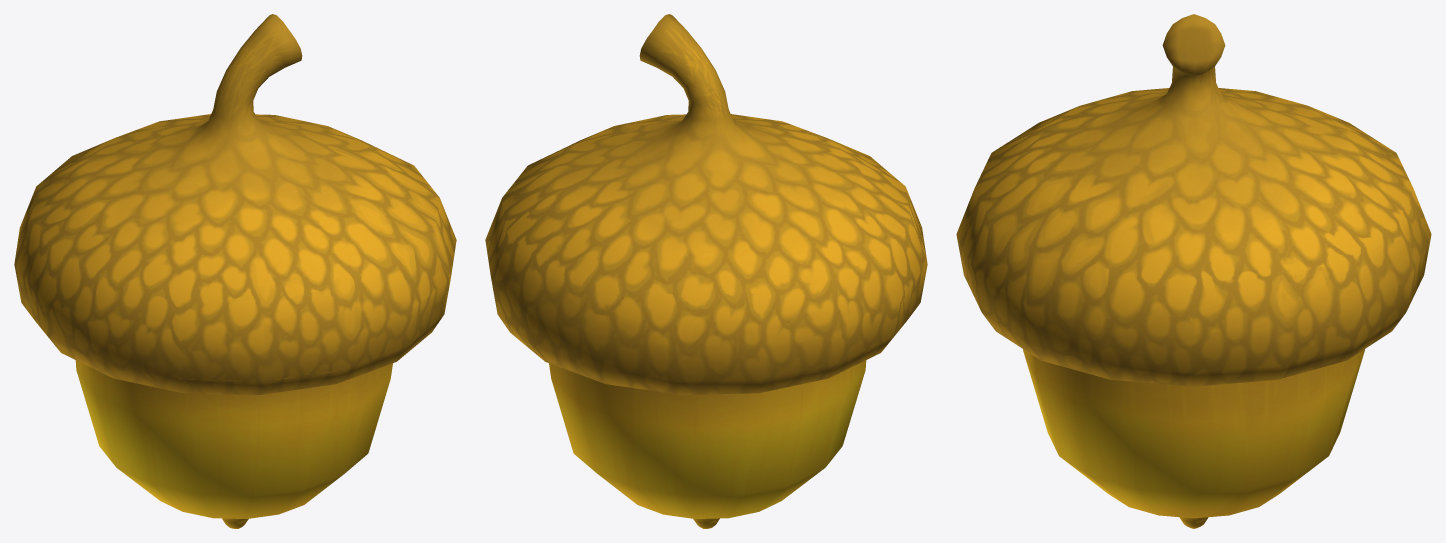
File: NozDourada.fbx
The picture shows the model from 3 angles, left to right: view 1: azimuth 30°, elevation 25°; view 2: azimuth 150°, elevation 25°; view 3: azimuth 270°, elevation 25°; orthographic projection. The views are drawn at different scales.
Visible parts, largest first — view 1: Nuts.001; view 2: Nuts.001; view 3: Nuts.001.
Boxes of the visible parts, left/top/right/bottom form: Nuts.001: left=14, top=14, right=456, bottom=528; Nuts.001: left=485, top=14, right=927, bottom=528; Nuts.001: left=956, top=14, right=1431, bottom=528.
Bounding box in the file's own units: 36.62 × 45.46 × 36.62.
